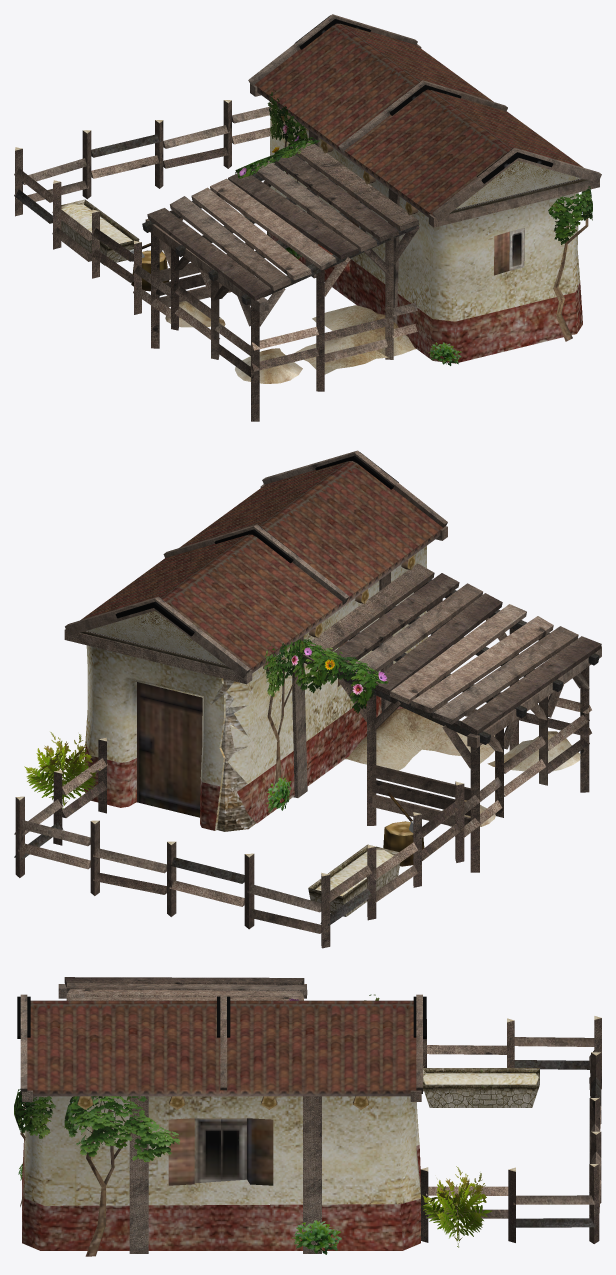
File: rome_corral.glb
The picture shows the model from 3 angles, top to bottom: view 1: azimuth 30°, elevation 25°; view 2: azimuth 150°, elevation 25°; view 3: azimuth 270°, elevation 25°; orthographic projection. The views are drawn at different scales.
Parts seen in each view (by area): view 1: rome_corral_part0, rome_corral_part2, rome_corral_part1; view 2: rome_corral_part0, rome_corral_part2, rome_corral_part1; view 3: rome_corral_part0, rome_corral_part2, rome_corral_part1.
Part boxes in pixels (x1,y1,x2,y2): rome_corral_part0: [61, 15, 588, 363]; rome_corral_part2: [14, 14, 601, 421]; rome_corral_part1: [235, 89, 592, 365]; rome_corral_part0: [80, 452, 445, 916]; rome_corral_part2: [14, 450, 601, 948]; rome_corral_part1: [24, 639, 433, 812]; rome_corral_part0: [17, 996, 539, 1256]; rome_corral_part2: [20, 977, 601, 1253]; rome_corral_part1: [14, 994, 491, 1254].
Size of the model in its own units: 2.69 by 1.72 by 3.6.
Materials: 3 (3 with a texture image).
